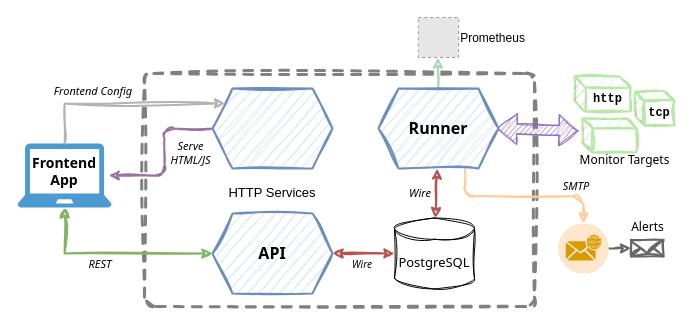
The diagram is 692 pixels wide and 325 high, and some of its shapes have lost their labels. Grey dashed boxes stand in for pictures. Here are the shapes that lost their labels. From the top down, the box of each, then its label:
(211, 87, 333, 169): Frontend Host
(581, 117, 637, 153): ping
(557, 222, 609, 274): Email Server
